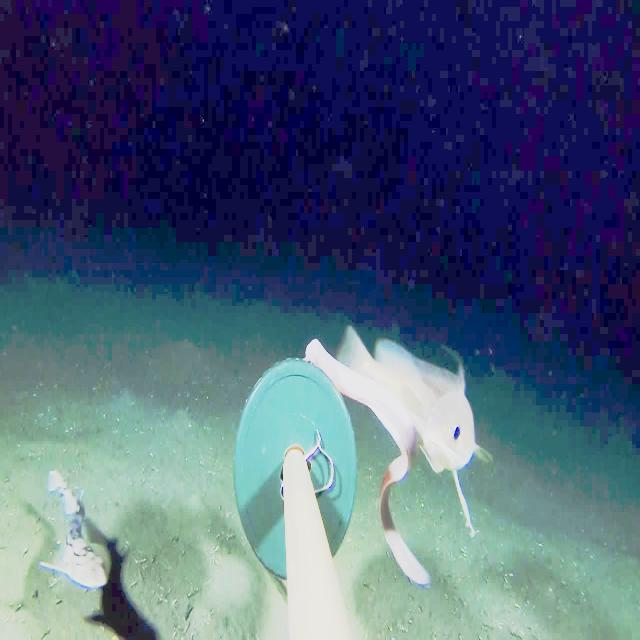eel: (296, 324, 438, 598)
fish: (334, 312, 501, 558), (38, 477, 124, 611)
pole: (225, 384, 361, 581)
